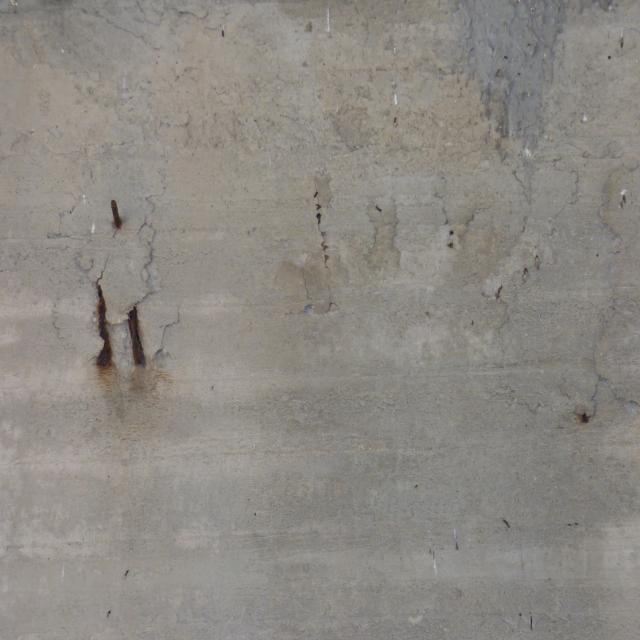corrosion: (80, 186, 172, 416), (309, 185, 332, 276), (567, 389, 598, 437), (439, 210, 465, 258), (388, 111, 406, 135), (517, 610, 537, 630), (373, 200, 390, 222), (104, 602, 116, 619), (502, 515, 516, 529), (452, 539, 465, 552), (426, 547, 439, 559), (122, 567, 133, 581), (564, 520, 582, 528)
